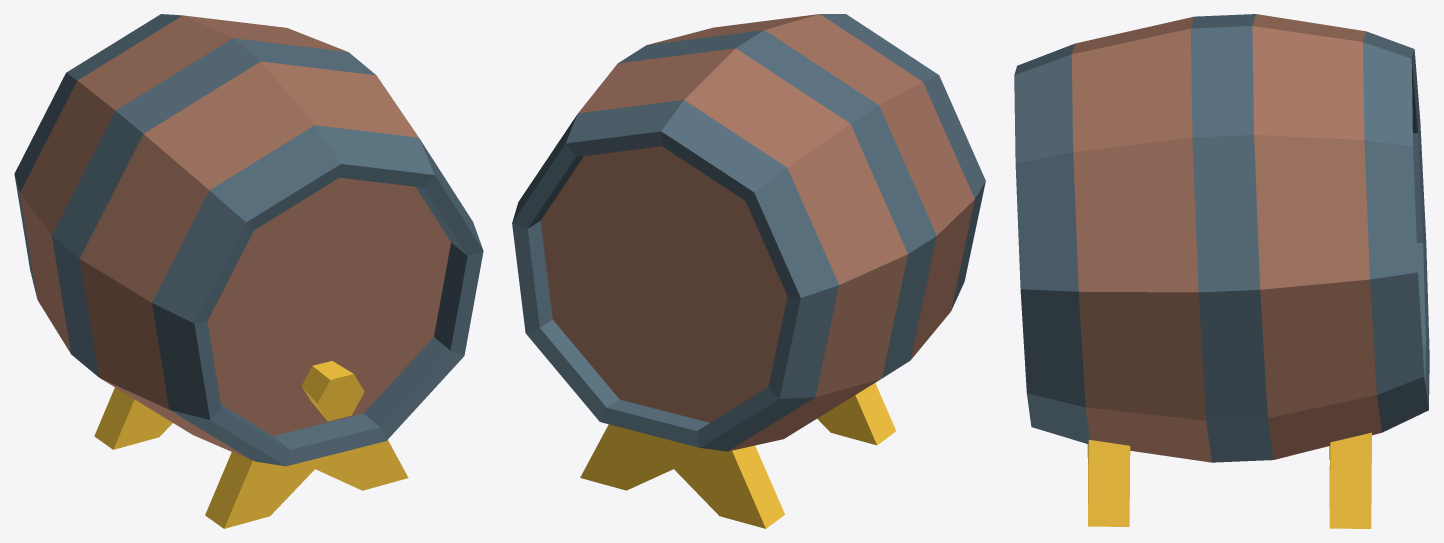
Rendered from Keg.glb.
3 views of the same model, side by side, from view 1: azimuth 30°, elevation 25°; view 2: azimuth 150°, elevation 25°; view 3: azimuth 270°, elevation 25° (orthographic). The views are drawn at different scales.
Parts seen in each view (by area): view 1: Small keg; view 2: Small keg; view 3: Small keg.
Part boxes in pixels (x1=…): Small keg: x1=14, y1=14, x2=483, y2=528; Small keg: x1=512, y1=14, x2=985, y2=528; Small keg: x1=1014, y1=14, x2=1429, y2=528.
Bounding box in the file's own units: 0.5651 × 0.6331 × 0.523.
